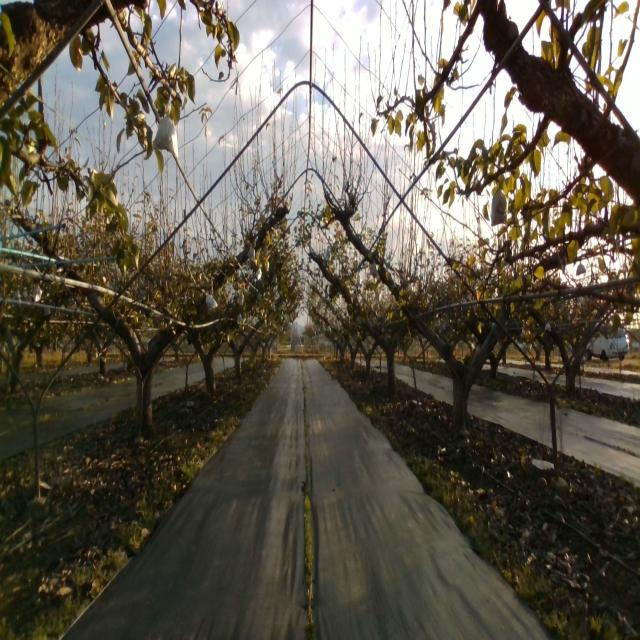pearbags: (153, 105, 176, 157), (491, 182, 507, 227), (368, 260, 379, 277)
